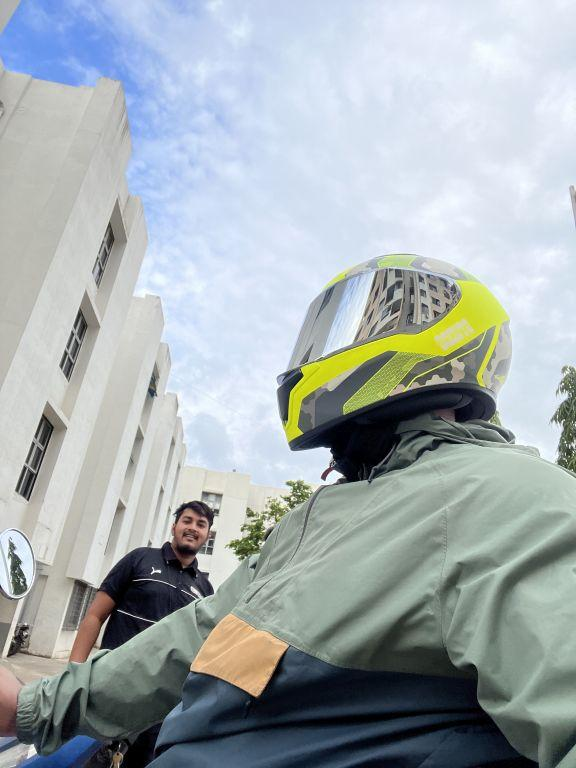helmet: (267, 237, 524, 457)
